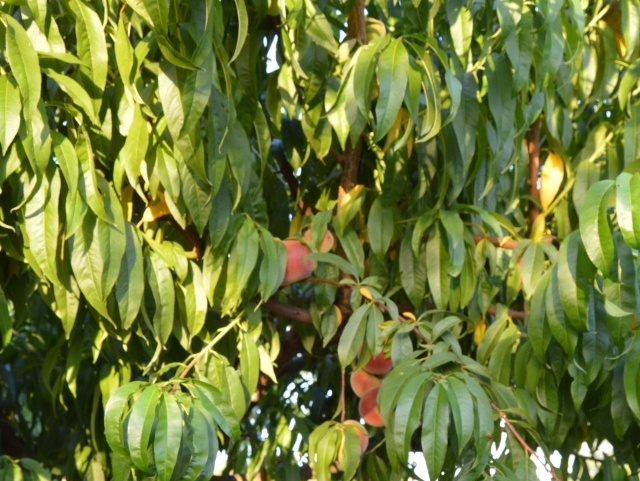peach: (275, 233, 317, 289), (341, 360, 385, 400), (358, 338, 401, 378), (356, 385, 394, 430), (302, 222, 338, 259), (339, 416, 373, 454)
